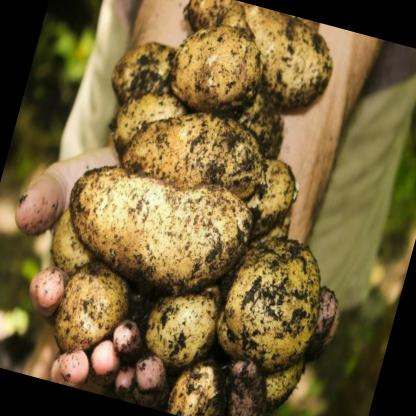potato: (50, 148, 260, 312), (204, 224, 338, 388), (165, 0, 343, 121), (112, 92, 275, 222), (160, 10, 272, 126), (42, 250, 140, 375), (134, 266, 228, 379), (163, 351, 238, 416)
